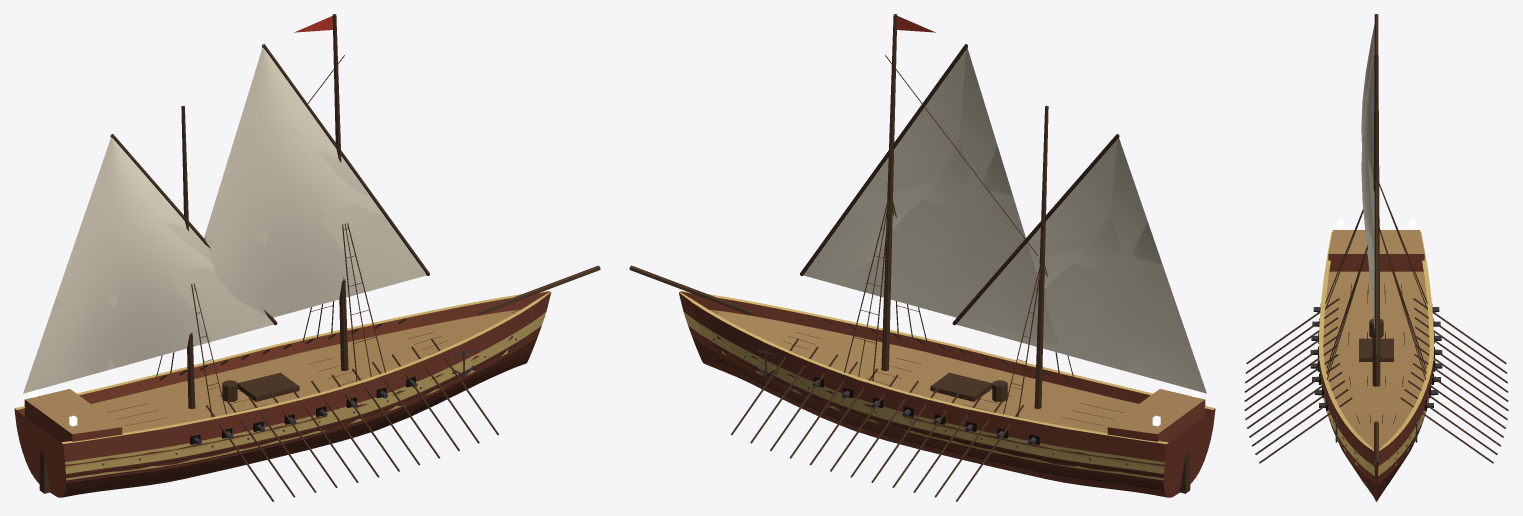
Rendered from galeoth.glb.
3 renders of one model, left to right at view 1: azimuth 30°, elevation 25°; view 2: azimuth 150°, elevation 25°; view 3: azimuth 270°, elevation 25°, orthographic. The views are drawn at different scales.
Parts seen in each view (by area): view 1: LOD0_Body, LOD0_m0_AftSail, LOD0_m1_AftSail, LOD2_Body, LOD1_Body, LOD1_m0_AftSail, LOD1_m1_AftSail, LOD2_m0_AftSail, LOD2_m1_AftSail; view 2: LOD0_Body, LOD2_m0_AftSail, LOD2_Body, LOD2_m1_AftSail, LOD1_m0_AftSail, LOD1_Body, LOD1_m1_AftSail, LOD0_m0_AftSail, LOD0_m1_AftSail; view 3: LOD0_Body, LOD2_Body, LOD0_m0_AftSail, LOD1_Body, LOD0_m1_AftSail, LOD2_m0_AftSail, LOD1_m0_AftSail.
Boxes of the visible parts, bbox=[...] form: LOD0_Body: bbox=[14, 14, 600, 501]; LOD0_m0_AftSail: bbox=[205, 44, 429, 317]; LOD0_m1_AftSail: bbox=[23, 134, 277, 393]; LOD2_Body: bbox=[14, 291, 550, 490]; LOD1_Body: bbox=[17, 16, 600, 497]; LOD1_m0_AftSail: bbox=[204, 127, 426, 312]; LOD1_m1_AftSail: bbox=[24, 205, 273, 392]; LOD2_m0_AftSail: bbox=[319, 203, 425, 272]; LOD2_m1_AftSail: bbox=[23, 267, 272, 392]; LOD0_Body: bbox=[629, 14, 1215, 501]; LOD2_m0_AftSail: bbox=[834, 45, 1058, 344]; LOD2_Body: bbox=[679, 291, 1215, 490]; LOD2_m1_AftSail: bbox=[986, 135, 1205, 391]; LOD1_m0_AftSail: bbox=[845, 140, 1057, 345]; LOD1_Body: bbox=[629, 16, 1212, 497]; LOD1_m1_AftSail: bbox=[1032, 215, 1205, 393]; LOD0_m0_AftSail: bbox=[800, 44, 1058, 345]; LOD0_m1_AftSail: bbox=[952, 134, 1206, 393]; LOD0_Body: bbox=[1244, 52, 1508, 501]; LOD2_Body: bbox=[1323, 230, 1429, 464]; LOD0_m0_AftSail: bbox=[1361, 33, 1378, 355]; LOD1_Body: bbox=[1319, 55, 1433, 501]; LOD0_m1_AftSail: bbox=[1361, 14, 1378, 142]; LOD2_m0_AftSail: bbox=[1364, 209, 1374, 329]; LOD1_m0_AftSail: bbox=[1365, 123, 1374, 331].
Size of the model in its own units: 33.78 by 23.26 by 14.64.
Materials: 2 (1 with a texture image).
